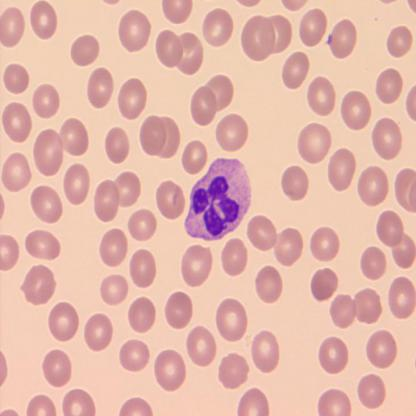Segmented neutrophil: (183, 155, 254, 245)
